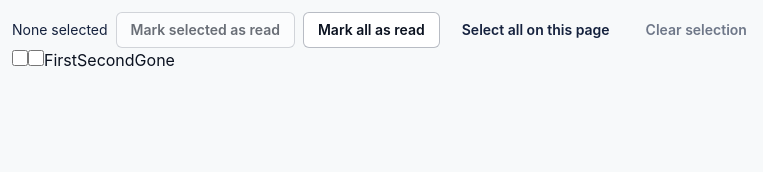
Test case: selecting notifications (139) › counts the selection, and Mark selected stays off until something is selected
Expected: the button "Mark selected as read" is disabled, [116,12,295,48]
Click the checkbox named "Select: First" at [20, 58], box [12,50,28,66]
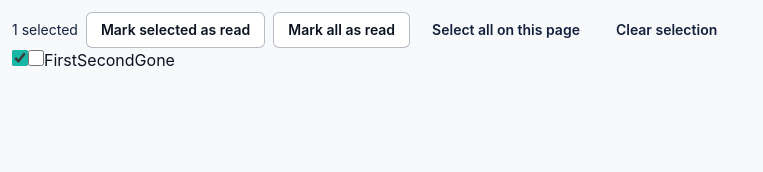
Expected: the text "1 selected" is shown, [12,20,78,40]
Expected: the button "Mark selected as read" is enabled, [86,12,265,48]
Click the button "Select all on this page" at [506, 30], box [418,12,594,48]
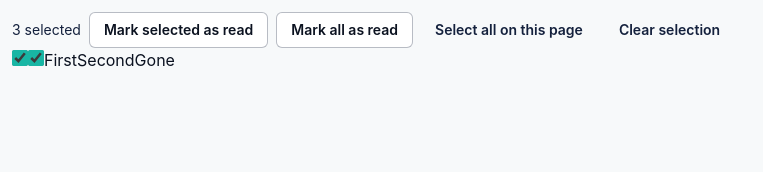
Expected: the text "3 selected" is shown, [12,20,81,40]
Click the button "Clear selection" at [670, 30], box [605,12,734,48]
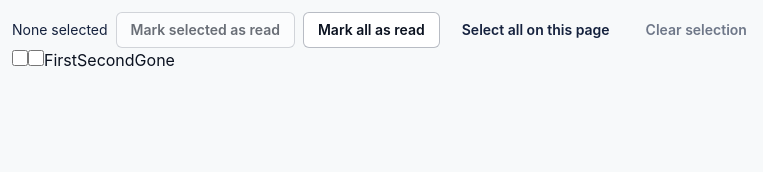
Expected: the text "None selected" is shown, [12,20,108,40]
